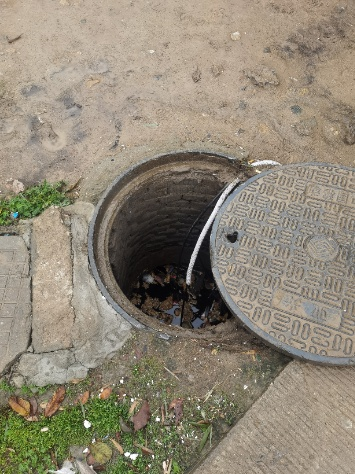uncovered: (87, 147, 355, 369)
